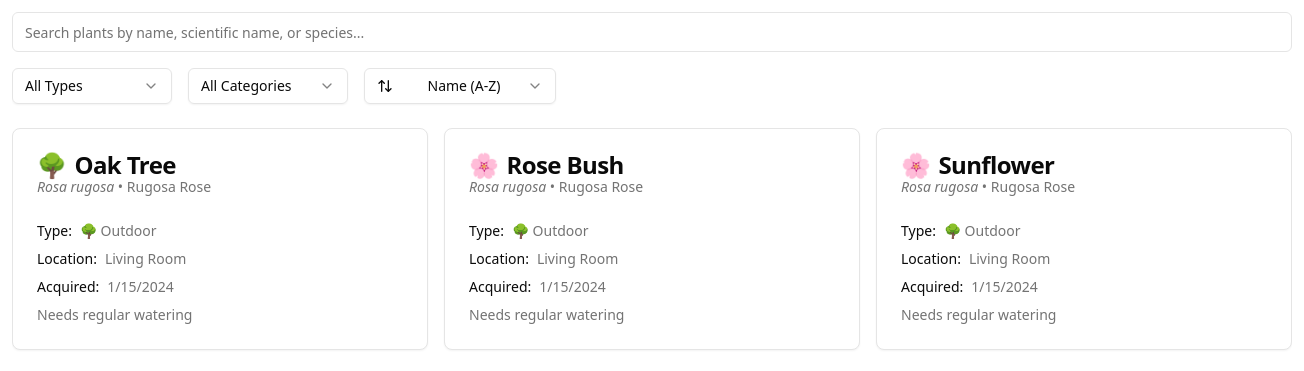
Test case: PlantList › shows clear filters button only when filters are active
Expected: the button "clear filters" is not shown
Type "rose" into the field with placeholder "Search plants by name, scientific name, or species..." at {"x": 652, "y": 32}, box [12, 12, 1292, 52]
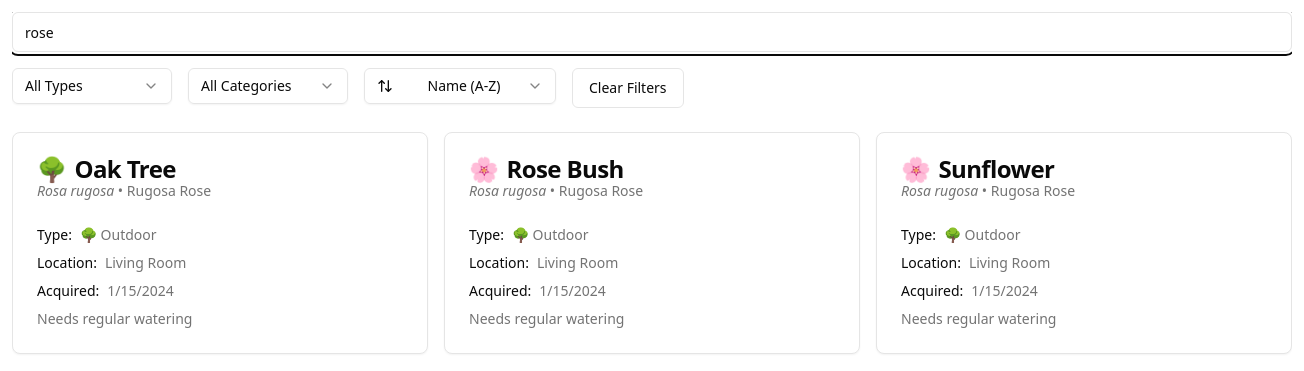
Expected: the button "Clear Filters" is shown, [572, 68, 684, 108]
